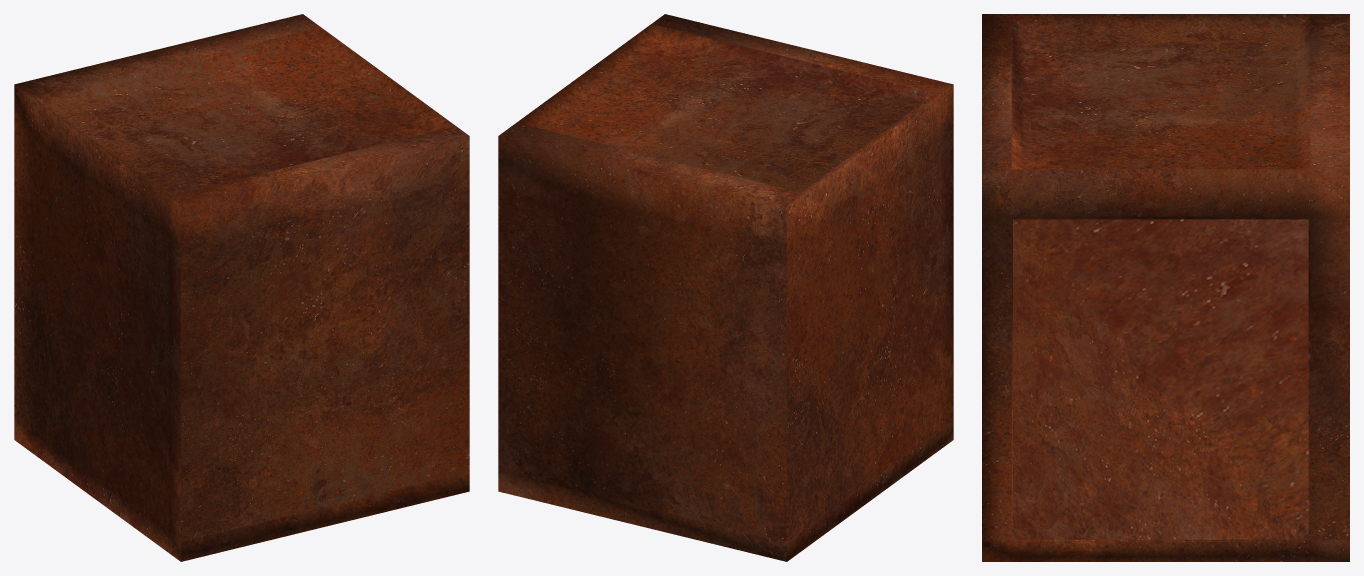
The model's file is Horno.fbx.
The picture shows the model from 3 angles, left to right: view 1: azimuth 30°, elevation 25°; view 2: azimuth 150°, elevation 25°; view 3: azimuth 270°, elevation 25°; orthographic projection. The views are drawn at different scales.
Visible parts, largest first — view 1: Cocina; view 2: Cocina; view 3: Cocina.
Boxes of the visible parts, left/top/right/bottom form: Cocina: left=14, top=14, right=469, bottom=561; Cocina: left=498, top=14, right=953, bottom=561; Cocina: left=982, top=14, right=1349, bottom=561.
Size of the model in its own units: 1830 by 2155 by 1829.
